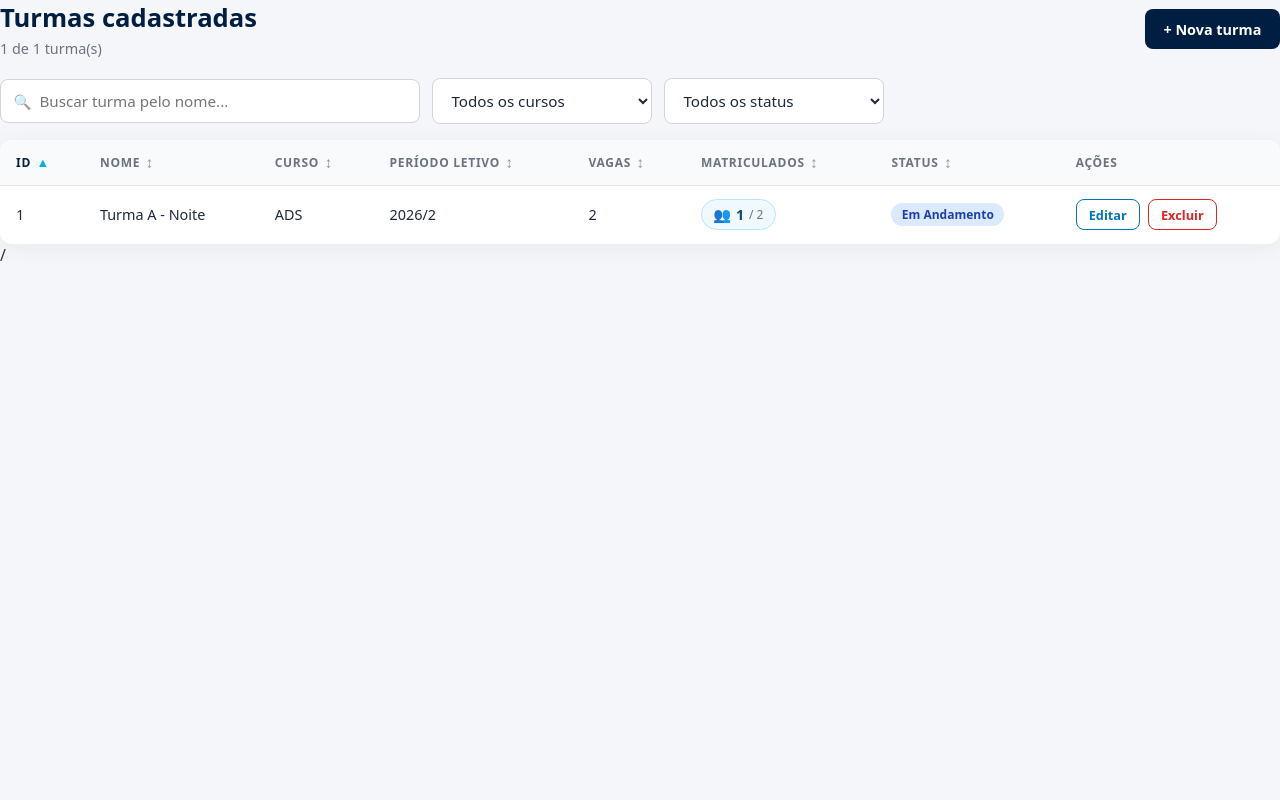
it: uma vaga livre e um aluno no singular
Step 1. Click the button titled "Ver os alunos matriculados" → (738, 215), box [701,200,776,230]
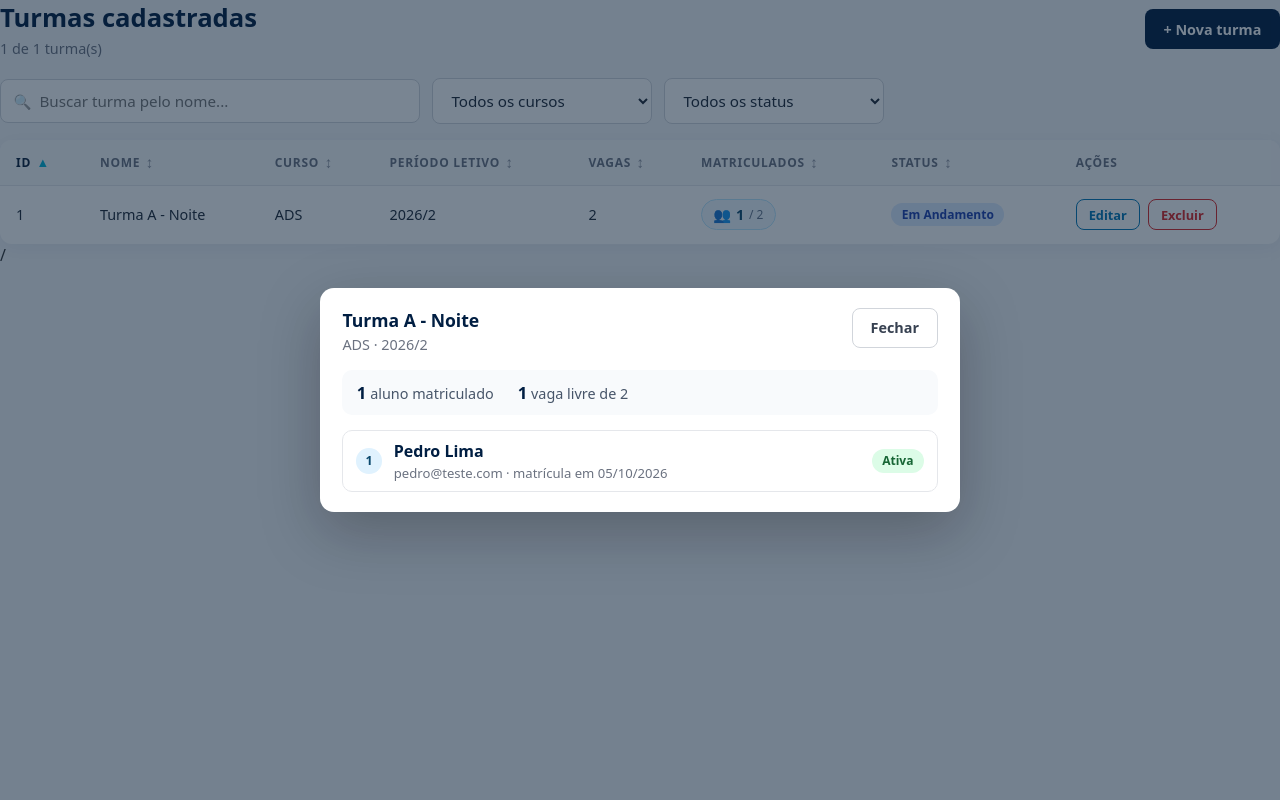
Check: the dialog shows "1 aluno matriculado"
Check: the dialog shows "1 vaga livre de 2"
